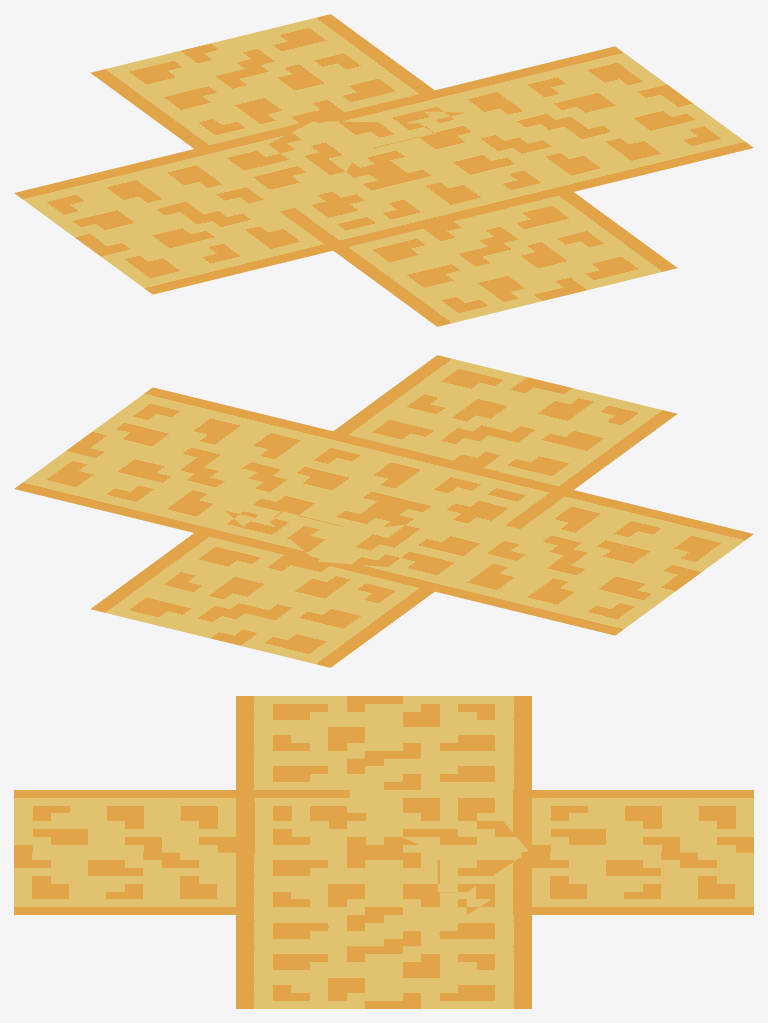
Rendered from PathForest.gltf.
3 renders of one model, top to bottom at view 1: azimuth 30°, elevation 25°; view 2: azimuth 150°, elevation 25°; view 3: azimuth 270°, elevation 25°, orthographic. The views are drawn at different scales.
Visible parts, largest first — view 1: West, East, North, South, PathEnd, PathFourJunction, PathCorner, PathTJunction; view 2: East, West, North, South, PathEnd, PathFourJunction, PathCorner, PathTJunction; view 3: North, South, East, West, PathEnd, PathFourJunction, PathCorner, PathTJunction.
Part boxes in pixels (x1,y1,x2,y2): West: (333,192,677,326); East: (90,14,434,148); North: (435,46,753,191); South: (14,149,332,294); PathEnd: (280,113,572,250); PathFourJunction: (221,121,434,211); PathCorner: (195,109,464,167); PathTJunction: (358,90,464,112); East: (90,533,434,667); West: (333,355,677,489); North: (14,387,332,532); South: (435,490,753,635); PathEnd: (225,431,572,529); PathFourJunction: (269,511,519,572); PathCorner: (225,510,460,591); PathTJunction: (195,511,271,551); North: (236,915,531,1008); South: (236,696,531,789); East: (532,790,753,914); West: (14,790,235,914); PathEnd: (236,790,466,914); PathFourJunction: (349,790,528,892); PathCorner: (466,790,531,914); PathTJunction: (467,874,531,914).
Bounding box in the file's own units: 5 × 0.000201 × 5.
1 material, 1 textured.
